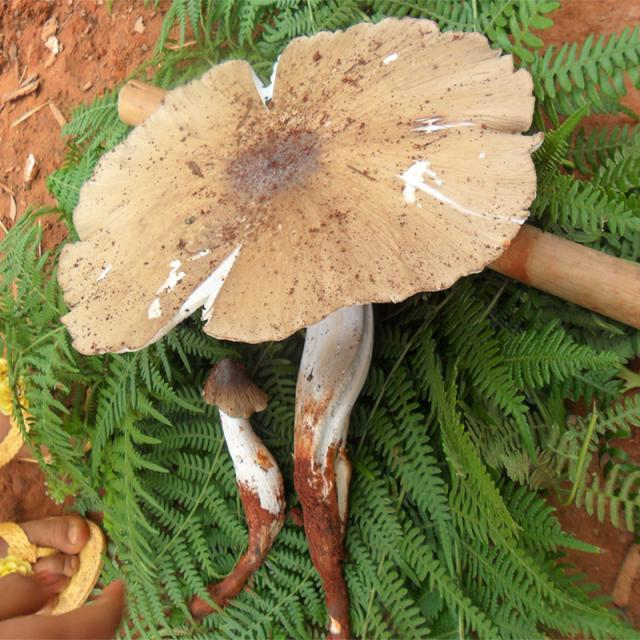Collybia albuminosa: (62, 15, 543, 615), (191, 366, 286, 609)
